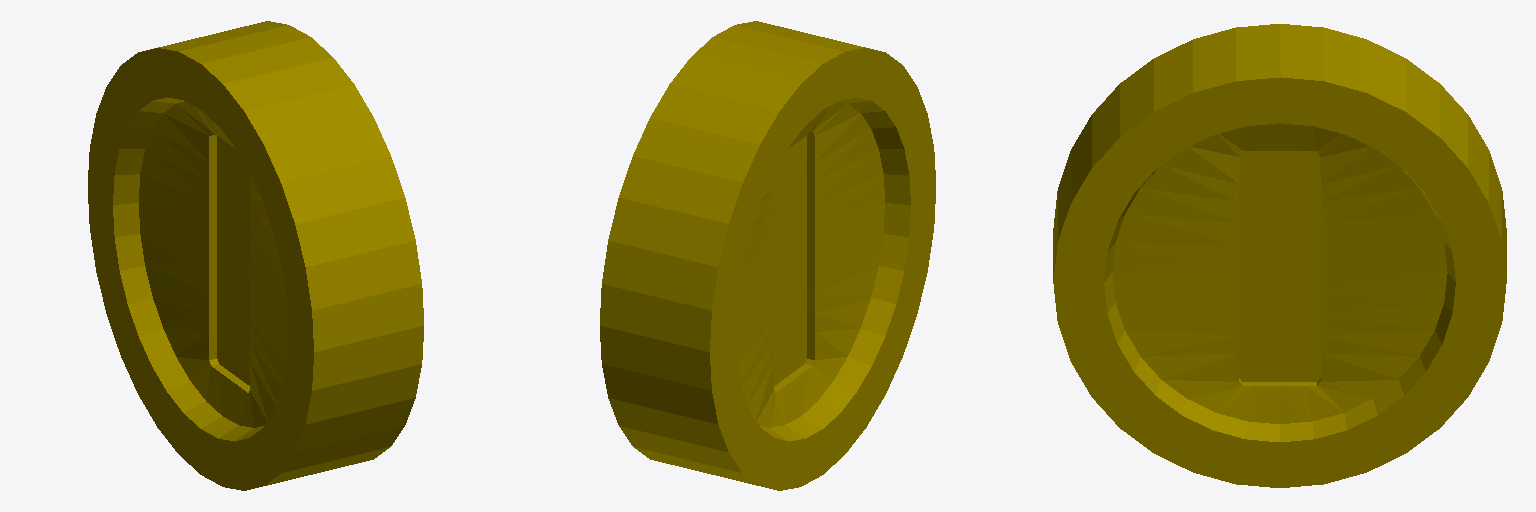
File: coin.obj
3 renders of one model, left to right at view 1: azimuth 30°, elevation 25°; view 2: azimuth 150°, elevation 25°; view 3: azimuth 270°, elevation 25°, orthographic.
Visible parts, largest first — view 1: Cylinder; view 2: Cylinder; view 3: Cylinder.
Part boxes in pixels (x1,y1,x2,y2): Cylinder: (88,21,423,490); Cylinder: (600,21,935,490); Cylinder: (1053,24,1506,487).
Size of the model in its own units: 2.76 by 9.84 by 9.84.